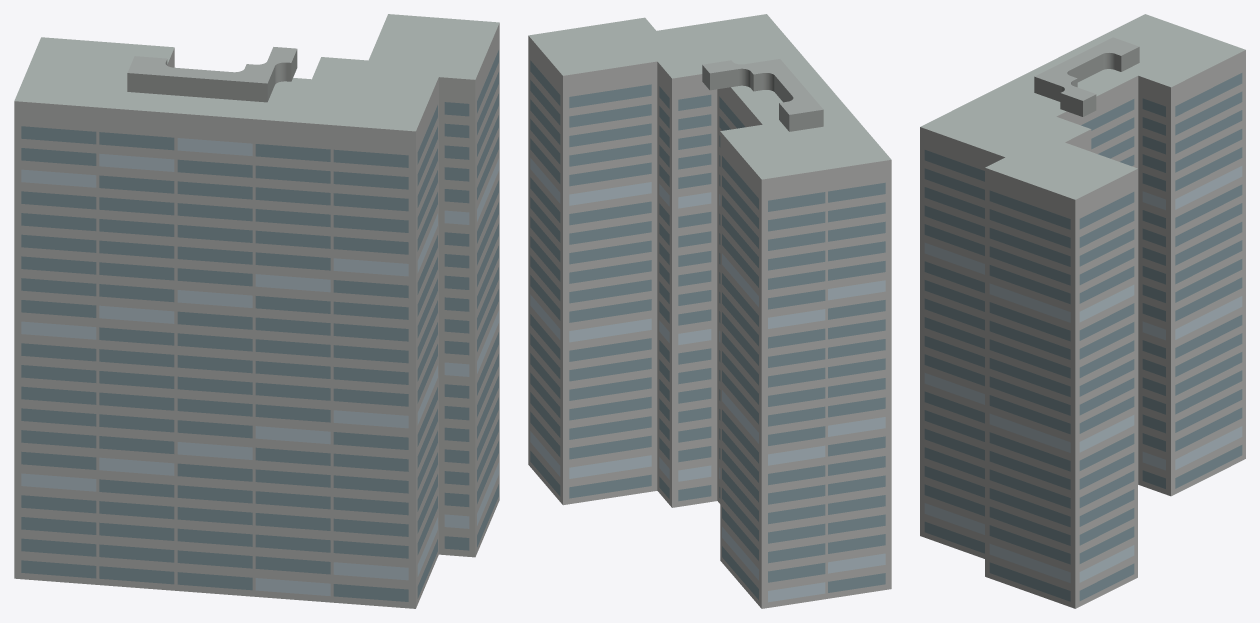
Rendered from fallback-mapo-grang-xi-105.glb.
The picture shows the model from 3 angles, left to right: view 1: azimuth 30°, elevation 25°; view 2: azimuth 150°, elevation 25°; view 3: azimuth 270°, elevation 25°; orthographic projection. The views are drawn at different scales.
Parts seen in each view (by area): view 1: fallback-mapo-grang-xi-105; view 2: fallback-mapo-grang-xi-105; view 3: fallback-mapo-grang-xi-105.
Part boxes in pixels (box(x1,y1,x2,y2)): fallback-mapo-grang-xi-105: box(14, 14, 499, 608); fallback-mapo-grang-xi-105: box(528, 14, 891, 608); fallback-mapo-grang-xi-105: box(920, 14, 1245, 608).
Size of the model in its own units: 59.07 by 63 by 43.76.
